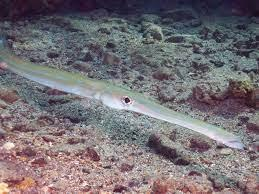Fistularia commersonii: (0, 33, 246, 151)
